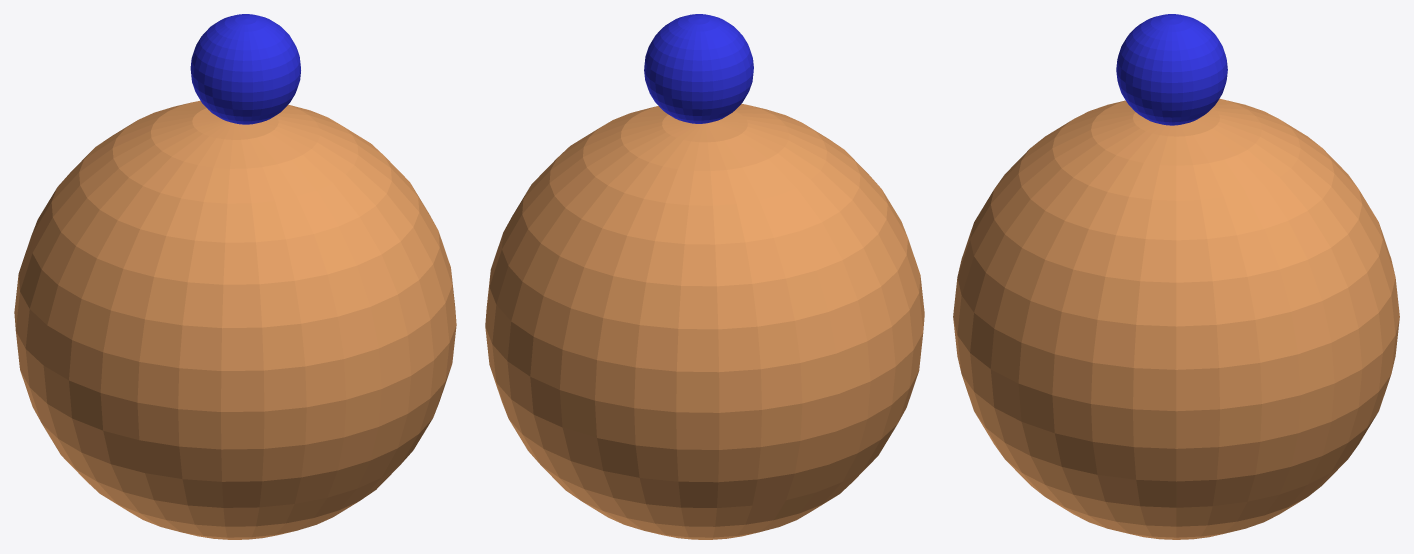
File: esfera.glb
3 renders of one model, left to right at view 1: azimuth 30°, elevation 25°; view 2: azimuth 150°, elevation 25°; view 3: azimuth 270°, elevation 25°, orthographic.
Parts seen in each view (by area): view 1: Sphere, Sphere.001; view 2: Sphere, Sphere.001; view 3: Sphere, Sphere.001.
Boxes of the visible parts, box(x1,y1,x2,y2) form: Sphere: box(14, 100, 456, 539); Sphere.001: box(190, 14, 300, 124); Sphere: box(485, 103, 924, 539); Sphere.001: box(644, 14, 753, 123); Sphere: box(953, 98, 1399, 539); Sphere.001: box(1116, 14, 1227, 125).
Bounding box in the file's own units: 4 × 4.98 × 4.
